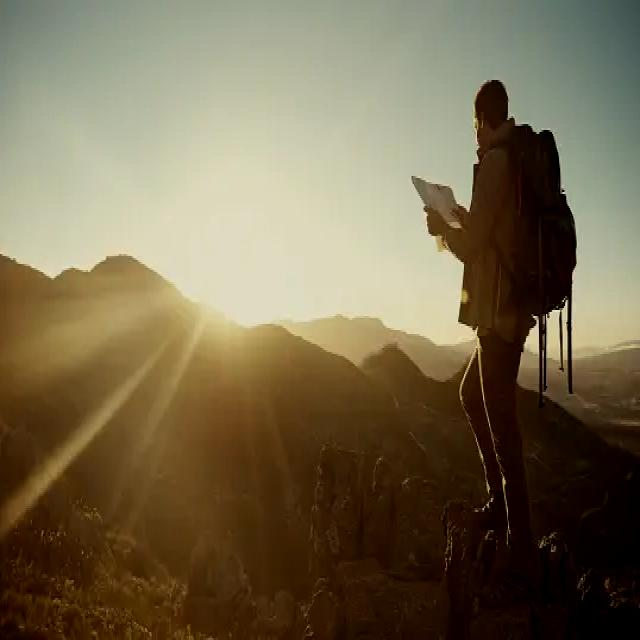backpack: (510, 118, 578, 327)
